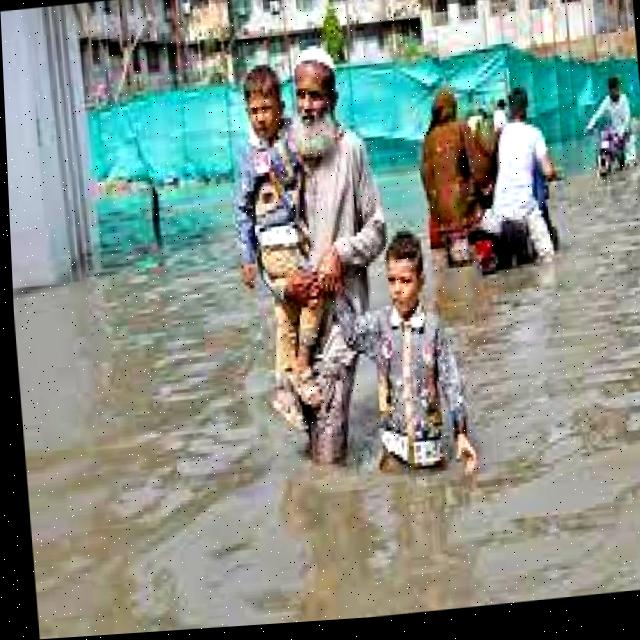civilian: (276, 18, 409, 516), (189, 45, 335, 435), (334, 204, 501, 497), (479, 77, 587, 275), (405, 81, 499, 258), (577, 58, 640, 188)
